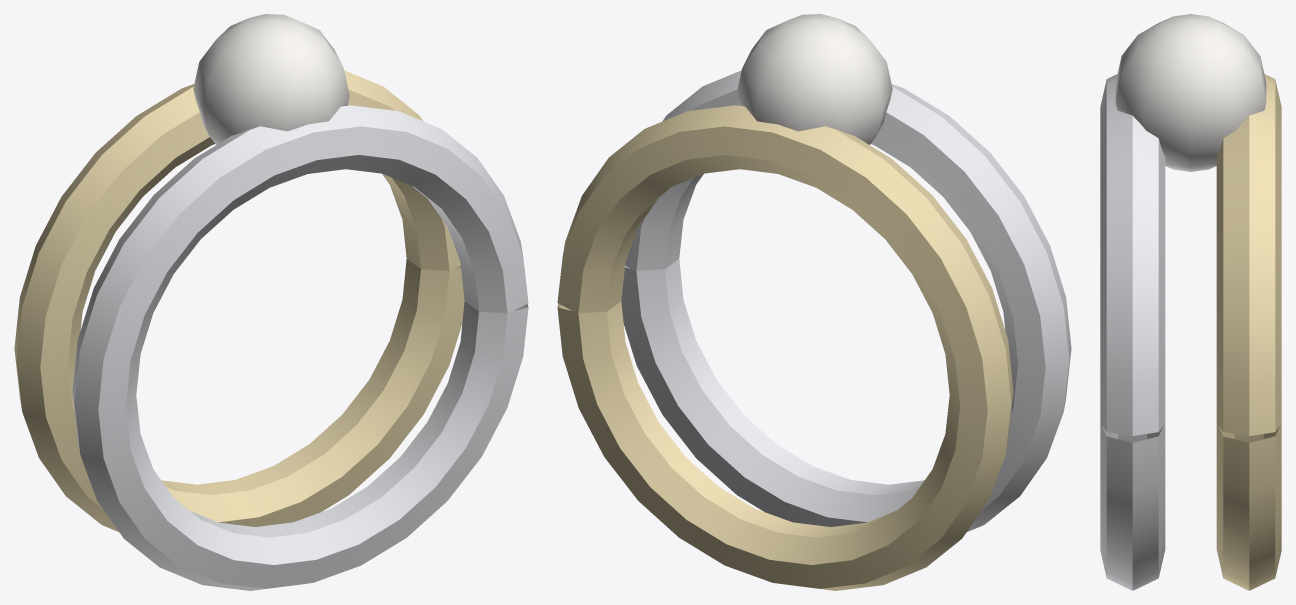
The model's file is twinmoon_band.glb.
3 views of the same model, side by side, from view 1: azimuth 30°, elevation 25°; view 2: azimuth 150°, elevation 25°; view 3: azimuth 270°, elevation 25° (orthographic).
Parts seen in each view (by area): view 1: twinmoon_band; view 2: twinmoon_band; view 3: twinmoon_band.
Boxes of the visible parts, x1,y1,x2,y2 form: twinmoon_band: (14,14,528,590); twinmoon_band: (557,14,1071,590); twinmoon_band: (1100,14,1281,590).
Bounding box in the file's own units: 0.0252 × 0.0289 × 0.00872.
